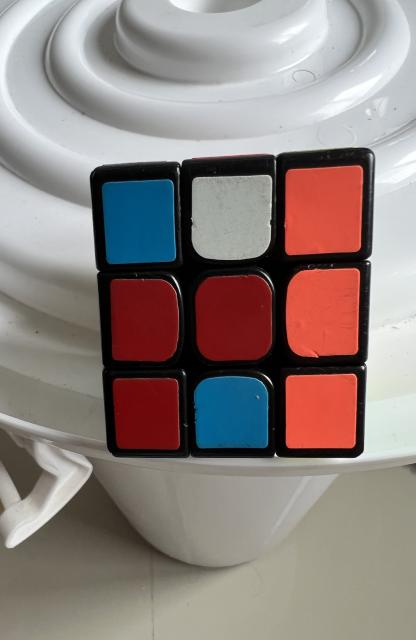Blue: (102, 179, 177, 264), (194, 376, 269, 449)
Orange: (285, 165, 363, 255), (286, 269, 360, 358), (285, 374, 358, 449)
Red: (195, 275, 272, 361), (110, 279, 179, 361), (113, 379, 180, 450)
White: (192, 175, 272, 260)
